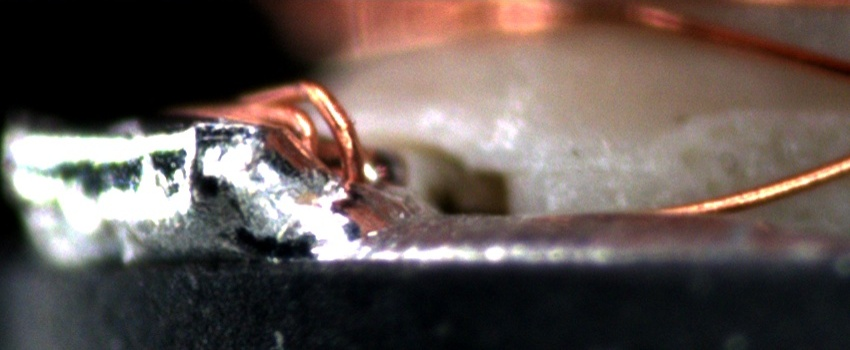DL: (489, 146, 667, 186)
TE: (182, 75, 364, 189)
